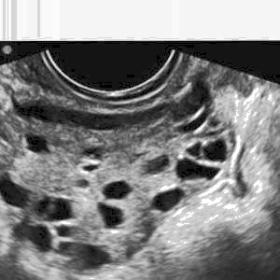PCOS: (10, 222, 51, 254), (56, 244, 108, 268), (174, 158, 222, 183), (0, 169, 29, 207), (150, 188, 189, 214), (92, 202, 128, 228), (200, 139, 230, 163), (49, 196, 74, 224), (103, 179, 132, 202), (147, 154, 170, 178), (25, 132, 50, 153), (34, 195, 50, 216), (84, 144, 102, 162), (187, 142, 202, 158), (56, 224, 72, 239), (72, 175, 88, 190), (81, 165, 104, 173)
